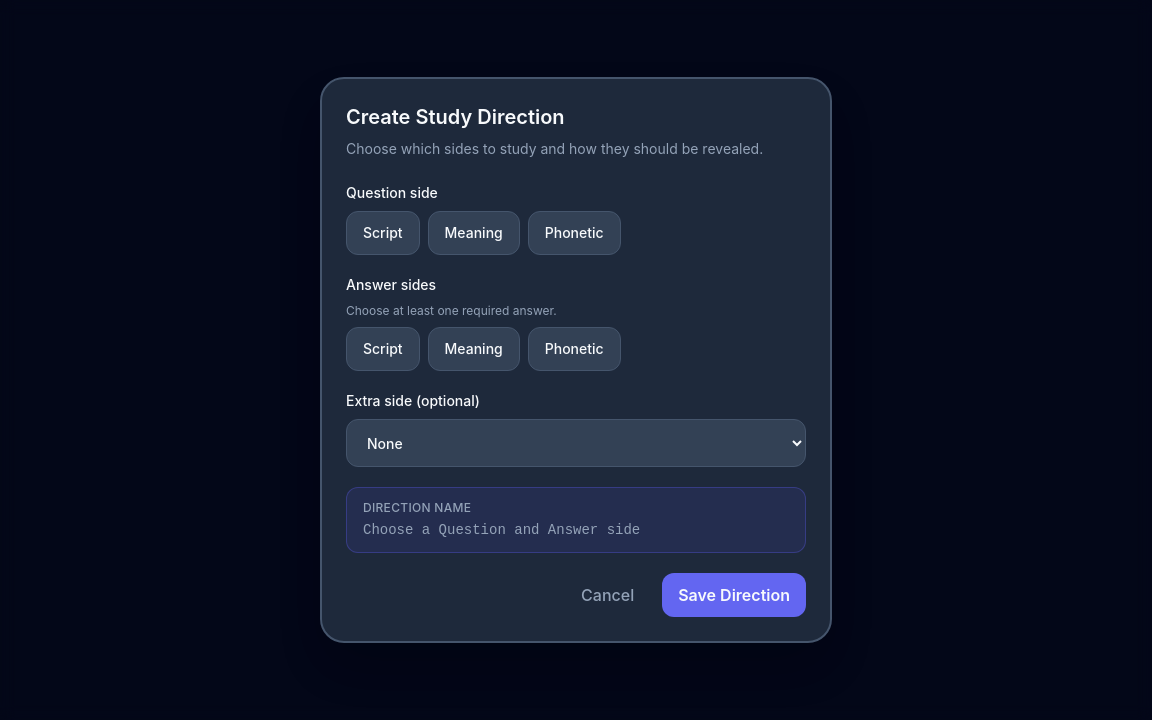
Test: DirectionDefinition › renders the deck labels and previews the model-generated name
The image size is (1152, 720).
Click the button "Script" below "Question side" at (383, 233), box [346,211,420,255]
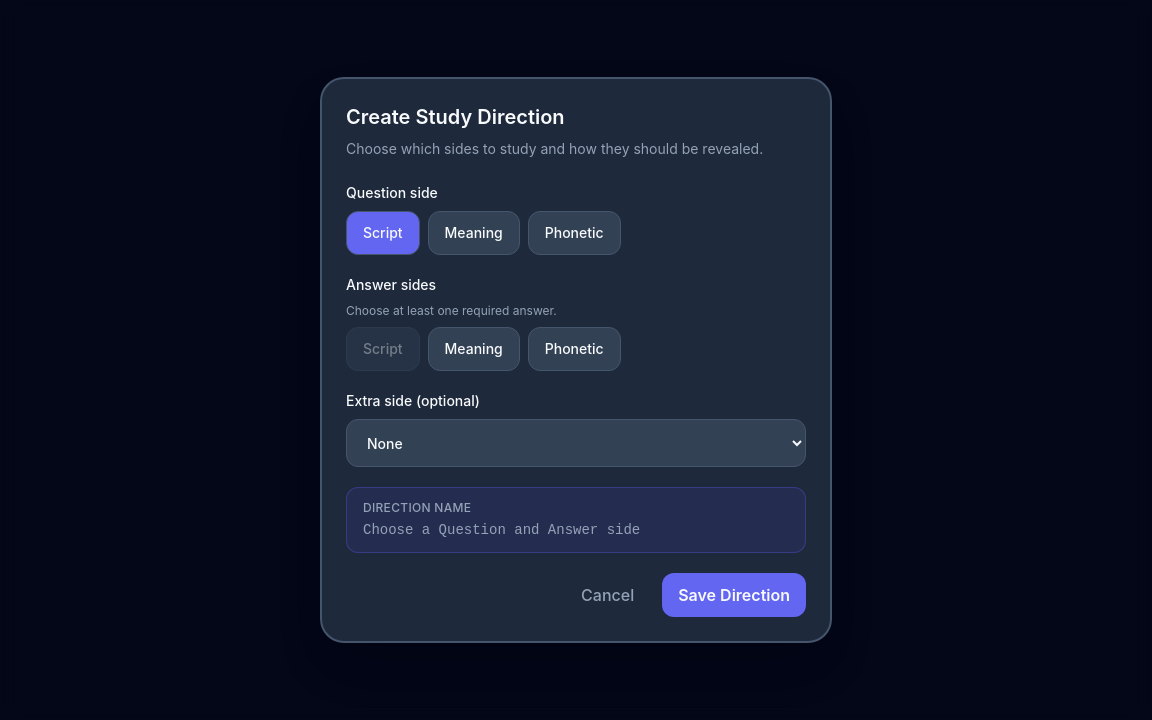
Click the button "Meaning" below "Choose at least one required answer." at (474, 349), box [428,327,520,371]
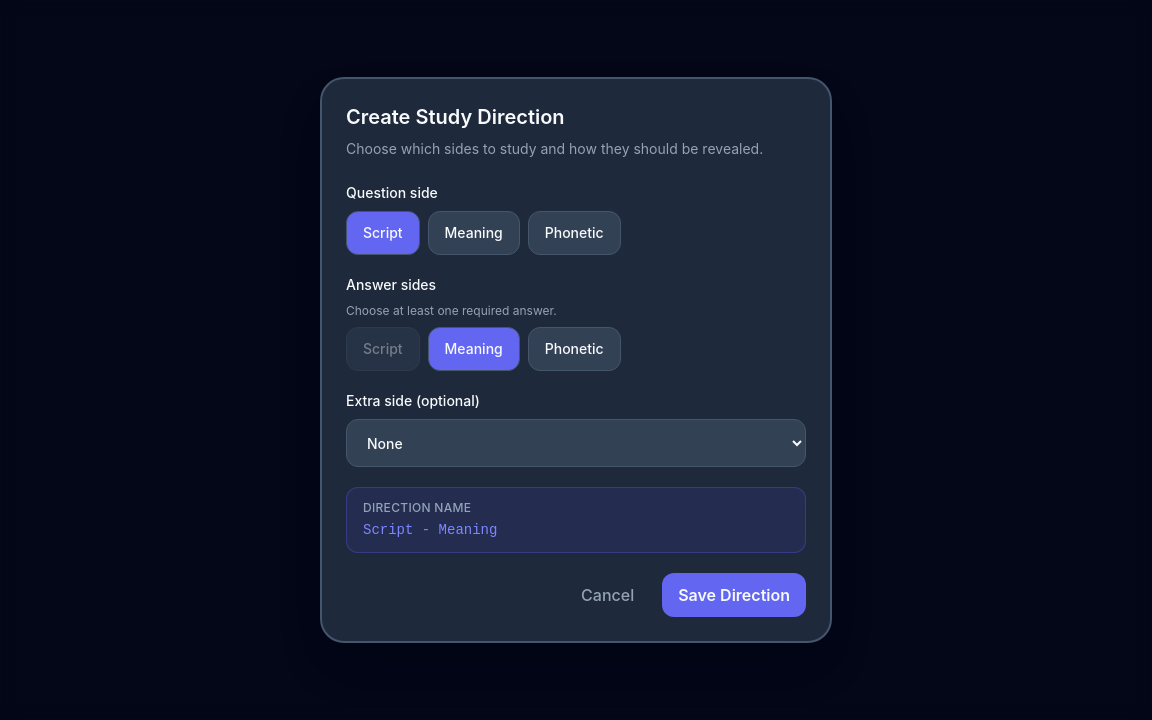
Result: the text "Script - Meaning" is shown at [363,522,497,538]
